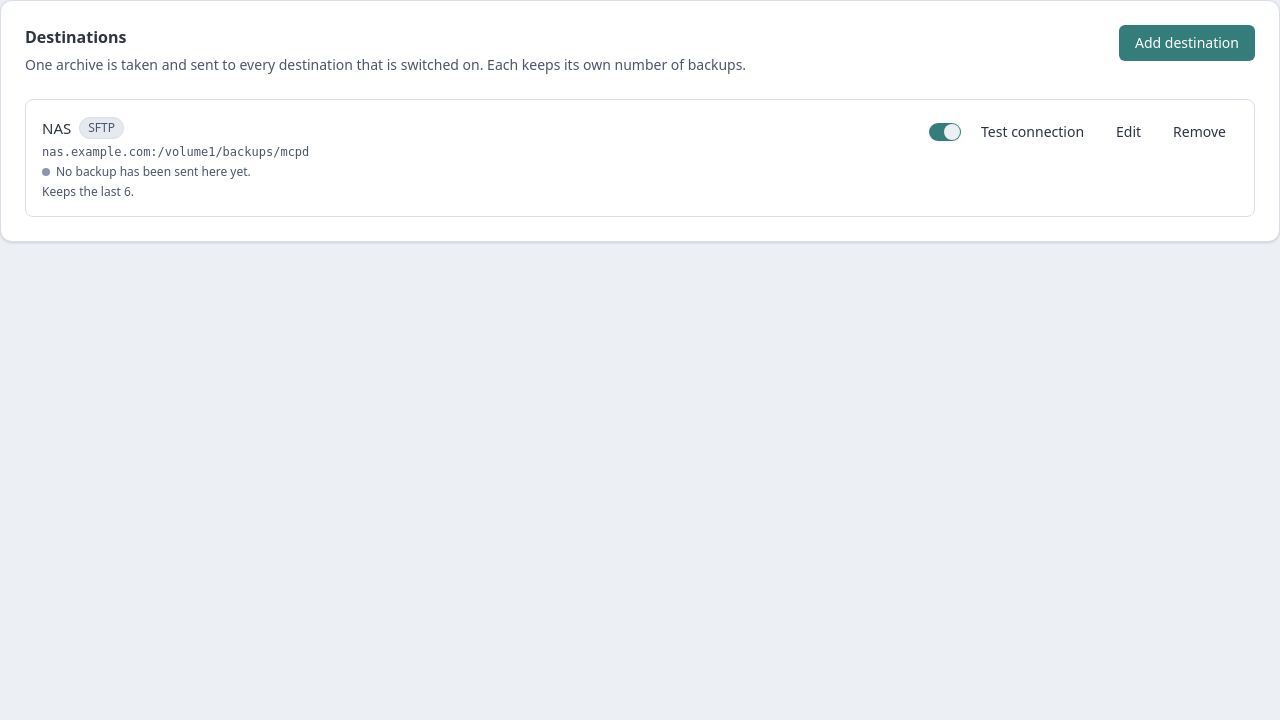
Test: the backup destinations list › says a blank credential box keeps the stored one
Click the button "Edit": (1129, 132) x1=1104 y1=116 x2=1153 y2=148
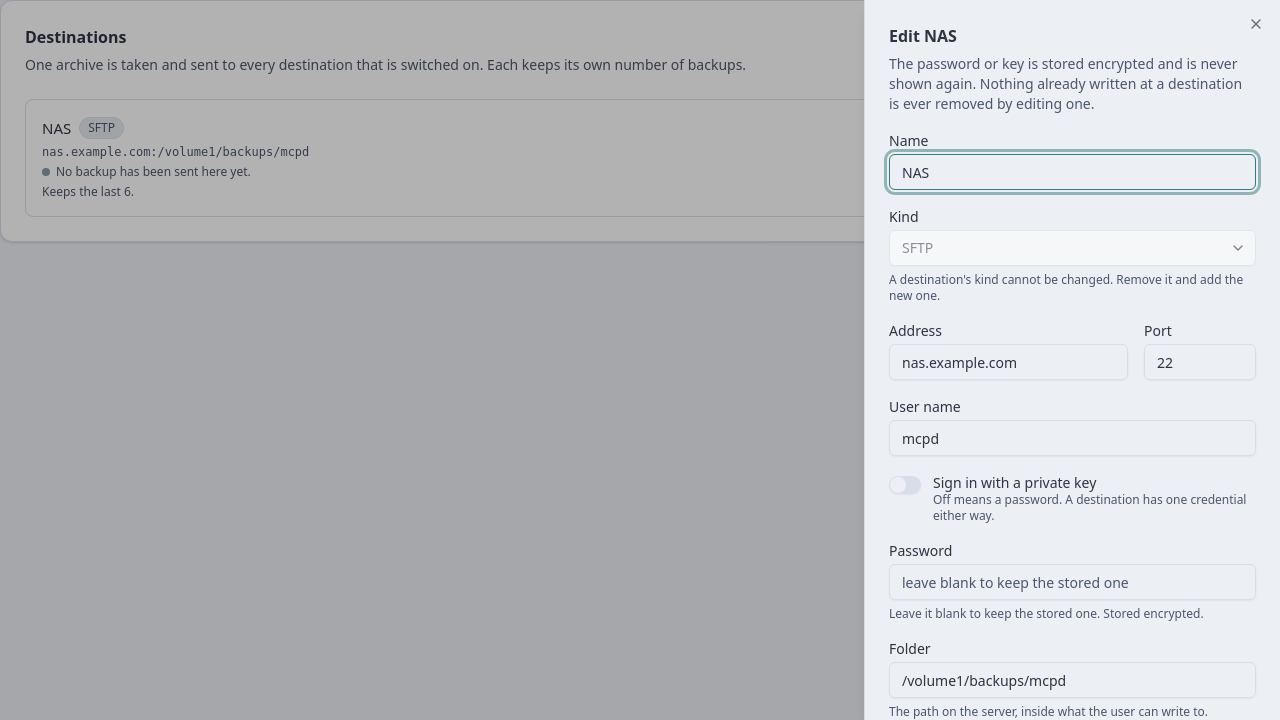
Expected: the password field with placeholder "leave blank to keep the stored one" is shown, x1=889 y1=564 x2=1256 y2=600
